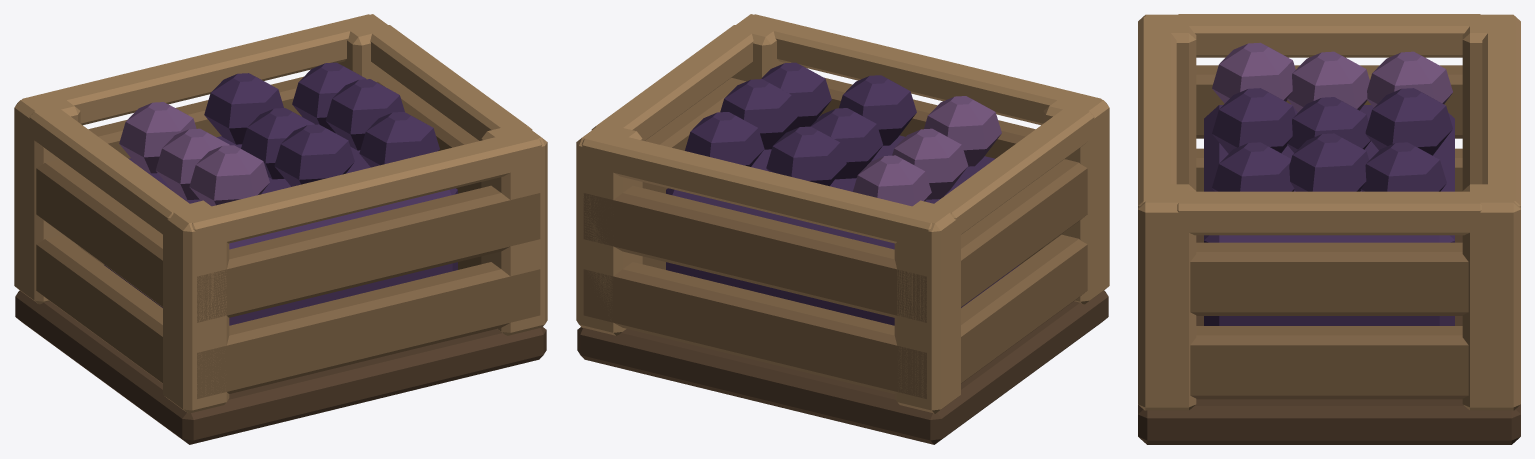
The model's file is elderberry_full.glb.
The picture shows the model from 3 angles, left to right: view 1: azimuth 30°, elevation 25°; view 2: azimuth 150°, elevation 25°; view 3: azimuth 270°, elevation 25°; orthographic projection. The views are drawn at different scales.
Parts seen in each view (by area): view 1: elderberry_full; view 2: elderberry_full; view 3: elderberry_full.
Part boxes in pixels (x1,y1,x2,y2): elderberry_full: (14, 14, 547, 444); elderberry_full: (576, 14, 1109, 444); elderberry_full: (1138, 14, 1520, 444).
Size of the model in its own units: 0.75 by 0.466 by 0.625.
